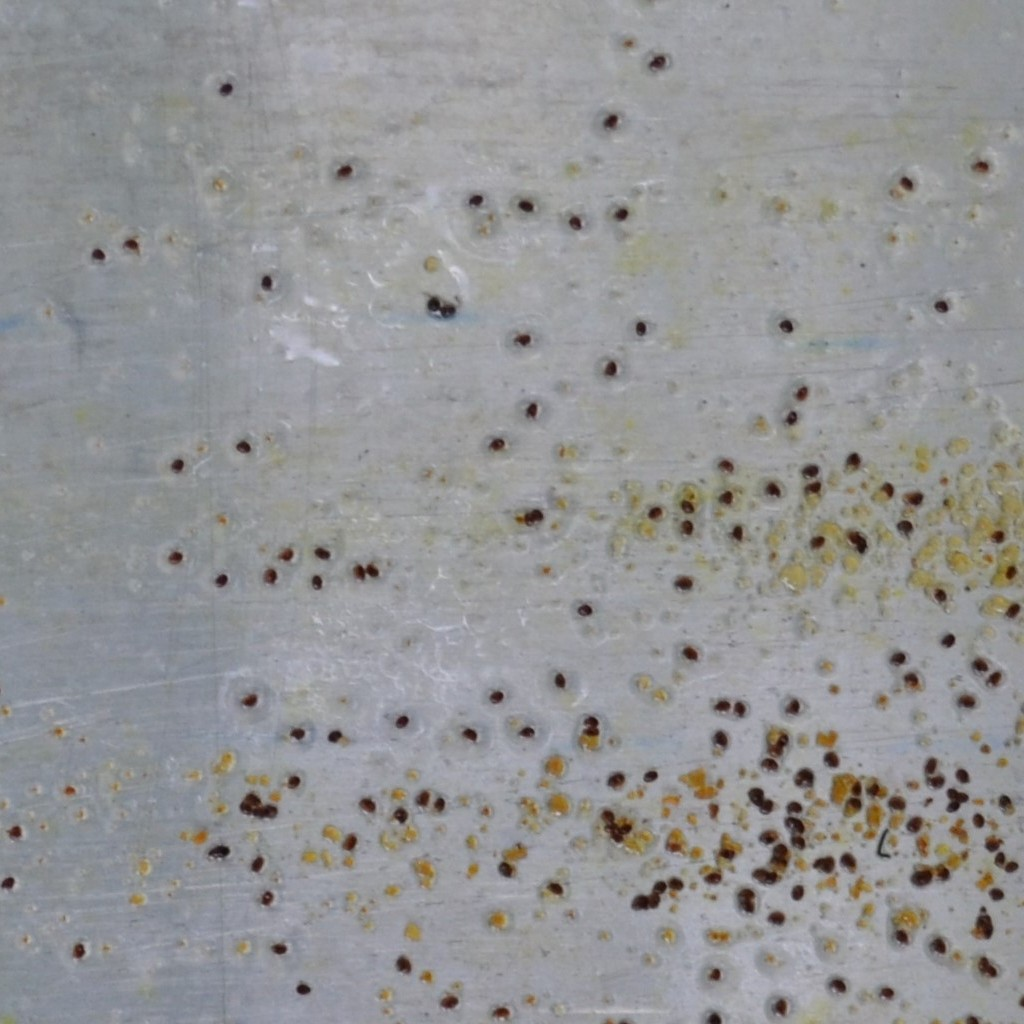varroa: (790, 766, 815, 791), (601, 106, 621, 136), (811, 855, 836, 878), (908, 869, 934, 891), (436, 991, 463, 1012), (647, 47, 667, 75), (393, 950, 414, 976), (671, 573, 695, 595), (820, 748, 843, 770), (680, 642, 701, 666), (611, 199, 631, 224), (940, 628, 958, 655), (783, 815, 806, 836), (392, 710, 410, 736), (776, 315, 797, 337), (887, 792, 908, 814), (339, 831, 358, 855), (844, 449, 862, 474), (905, 812, 923, 837), (293, 978, 314, 999), (970, 654, 990, 676), (894, 518, 916, 538), (825, 976, 848, 995), (89, 242, 107, 266), (729, 520, 745, 547), (206, 843, 230, 861), (515, 194, 535, 215), (334, 162, 354, 183), (710, 696, 731, 716), (239, 688, 259, 709), (356, 795, 377, 815), (932, 295, 951, 317), (313, 542, 332, 564), (746, 785, 765, 807), (259, 269, 275, 295), (489, 435, 507, 458), (249, 852, 266, 876), (466, 189, 486, 209), (426, 292, 442, 317), (121, 234, 141, 254), (878, 476, 894, 501), (714, 458, 735, 477), (838, 850, 857, 871), (711, 728, 730, 749), (738, 897, 757, 918), (628, 892, 647, 913), (486, 688, 505, 709), (898, 172, 916, 194), (602, 358, 620, 380), (522, 399, 540, 421), (275, 546, 297, 564), (212, 569, 230, 591), (758, 754, 780, 772), (567, 212, 584, 235), (783, 799, 806, 816), (970, 806, 986, 830), (1004, 601, 1023, 621), (921, 756, 941, 775), (892, 927, 911, 947), (460, 724, 480, 743), (391, 806, 410, 826), (986, 667, 1004, 688), (715, 488, 733, 509), (957, 692, 978, 710), (641, 768, 662, 786), (604, 770, 625, 788), (441, 300, 458, 322), (414, 789, 431, 811), (490, 1004, 512, 1021), (801, 459, 820, 478), (764, 480, 783, 499), (808, 534, 827, 553), (678, 496, 697, 515), (666, 876, 685, 895), (169, 455, 187, 475), (783, 696, 803, 714), (258, 888, 276, 908), (233, 438, 254, 455), (788, 882, 805, 903), (633, 317, 649, 339), (801, 479, 823, 495), (255, 806, 280, 820), (906, 487, 924, 506), (926, 772, 945, 790), (546, 879, 564, 898), (793, 381, 810, 401), (1003, 857, 1020, 877), (944, 797, 964, 814), (772, 996, 789, 1016), (269, 941, 289, 958), (705, 966, 725, 983), (218, 78, 234, 99), (679, 517, 695, 538), (849, 774, 863, 798), (766, 910, 787, 926), (756, 831, 777, 847), (715, 846, 739, 860), (167, 549, 185, 567), (988, 528, 1006, 546), (888, 650, 907, 667), (954, 766, 971, 785), (930, 936, 947, 955), (644, 890, 661, 909), (970, 159, 993, 173), (310, 570, 324, 593), (933, 585, 949, 605), (787, 834, 807, 850), (553, 670, 569, 690), (353, 562, 368, 583), (855, 536, 870, 557), (735, 886, 756, 901), (432, 794, 447, 815), (514, 332, 532, 349), (261, 567, 279, 584), (901, 670, 919, 687), (988, 886, 1006, 903), (7, 822, 23, 841), (647, 504, 663, 523), (998, 792, 1014, 811), (878, 983, 894, 1002), (575, 601, 594, 617), (497, 860, 513, 879), (785, 407, 800, 427), (288, 726, 308, 741), (991, 849, 1005, 870), (937, 864, 951, 885), (977, 952, 989, 976), (763, 870, 781, 886), (651, 879, 667, 897), (325, 728, 343, 744), (531, 506, 544, 528), (515, 726, 537, 739), (703, 871, 722, 886), (847, 794, 863, 811), (766, 740, 783, 756), (732, 700, 748, 717), (758, 799, 775, 815), (598, 807, 615, 823), (771, 843, 789, 858), (243, 791, 261, 806), (580, 725, 600, 738), (847, 529, 863, 545), (285, 772, 301, 788), (365, 562, 380, 579), (0, 875, 15, 892), (953, 789, 970, 804), (865, 780, 880, 797), (522, 509, 535, 528), (73, 941, 87, 958), (1003, 563, 1017, 580), (982, 840, 1001, 852), (704, 1011, 723, 1023), (580, 714, 599, 726), (775, 732, 791, 746), (238, 802, 254, 816), (987, 962, 1000, 979), (943, 786, 959, 799), (617, 823, 634, 835), (609, 831, 623, 845), (603, 822, 619, 834), (963, 1013, 981, 1023)
